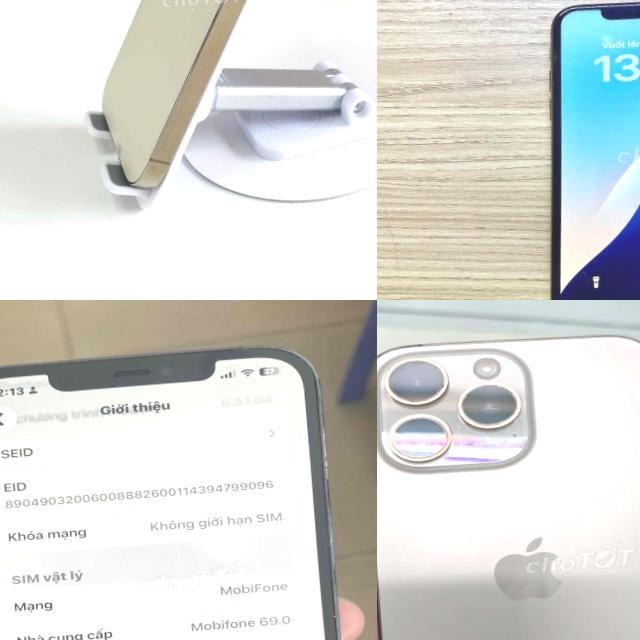gen_12_13: (0, 336, 377, 640)
gen_14: (102, 0, 250, 187)
gen_16: (377, 336, 640, 640)
gen_x_xs: (521, 0, 640, 300)
scratch: (445, 419, 477, 444)
